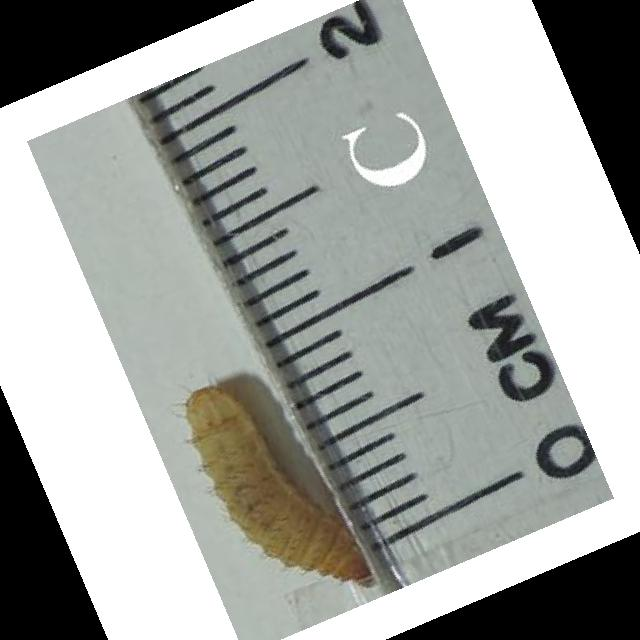Maggot: (182, 383, 370, 586)
